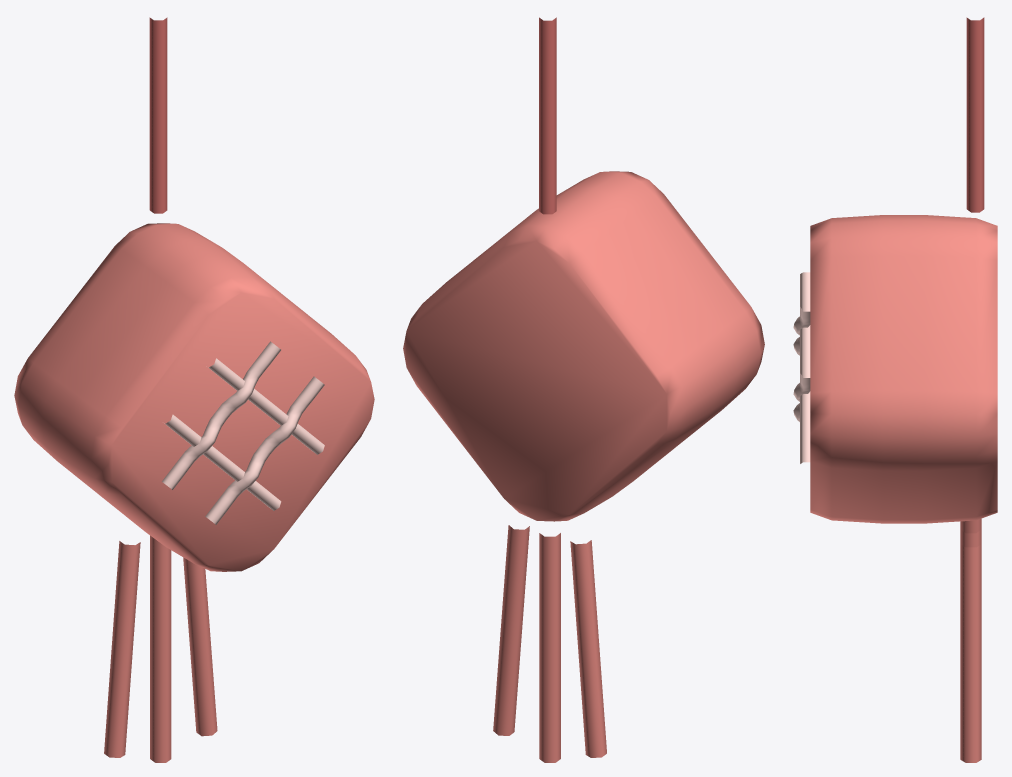
File: decor_6_classic.glb
3 renders of one model, left to right at view 1: azimuth 30°, elevation 25°; view 2: azimuth 150°, elevation 25°; view 3: azimuth 270°, elevation 25°, orthographic.
Visible parts, largest first — view 1: decor_6_classic; view 2: decor_6_classic; view 3: decor_6_classic.
Part boxes in pixels (<box>): decor_6_classic: <box>14,17,374,762</box>; decor_6_classic: <box>403,17,764,762</box>; decor_6_classic: <box>793,17,997,762</box>.
Size of the model in its own units: 3.71 by 9.2 by 2.31.
